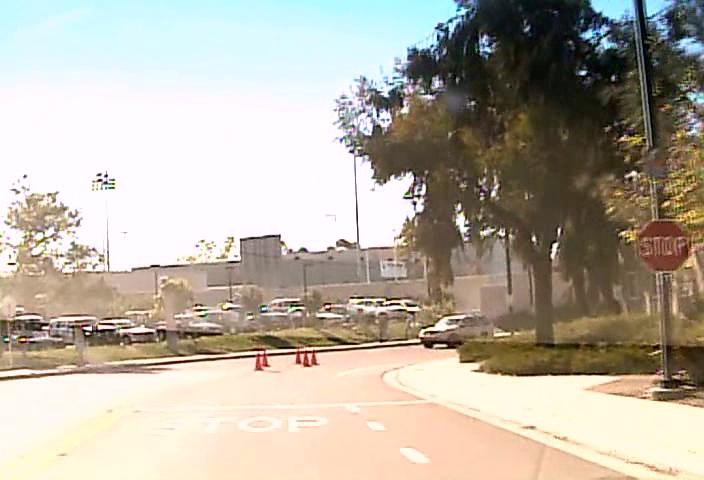stop: (636, 218, 689, 272)
